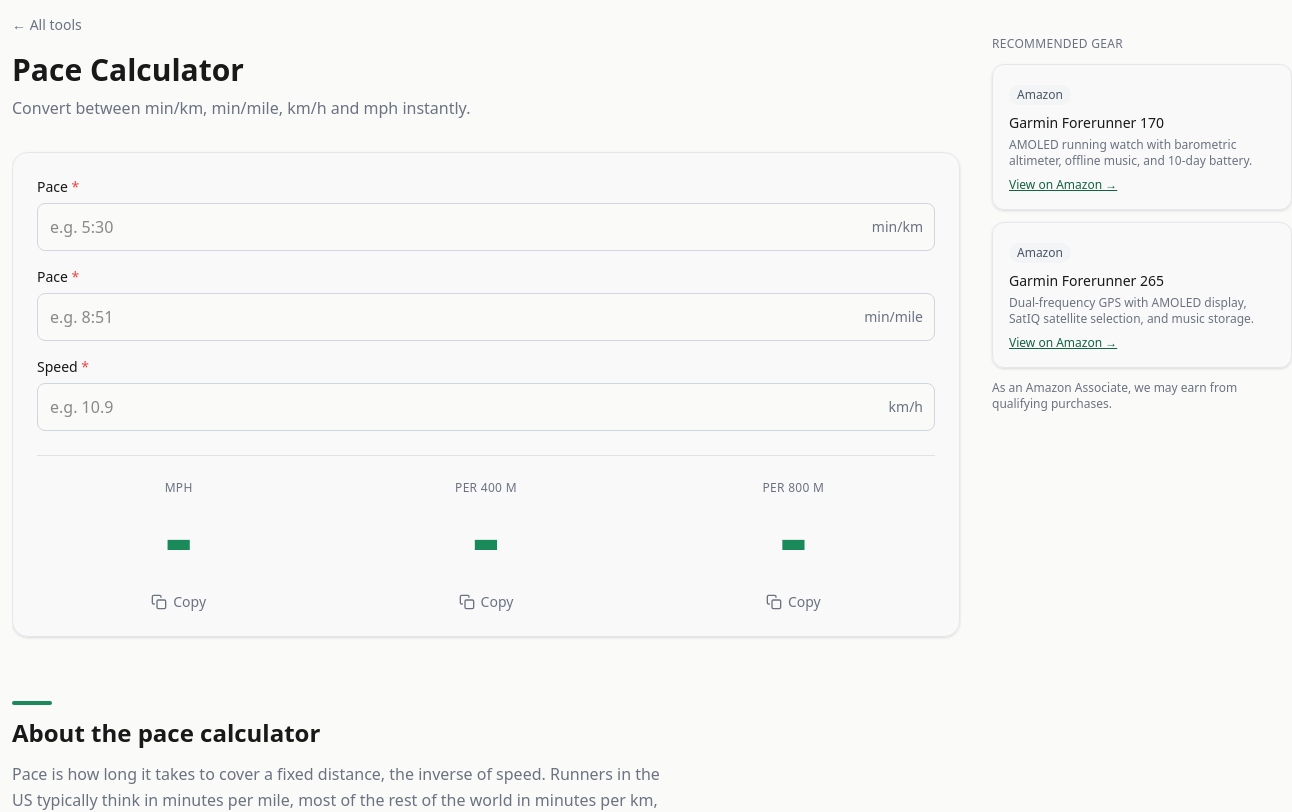
Scenario: Pace Calculator page › km/h → cross-update › typing 10.9 in km/h updates min/km to 5:30
Type "10.9" into the number field labelled "Speed *". click: (486,407)
box: x1=37 y1=383 x2=935 y2=431
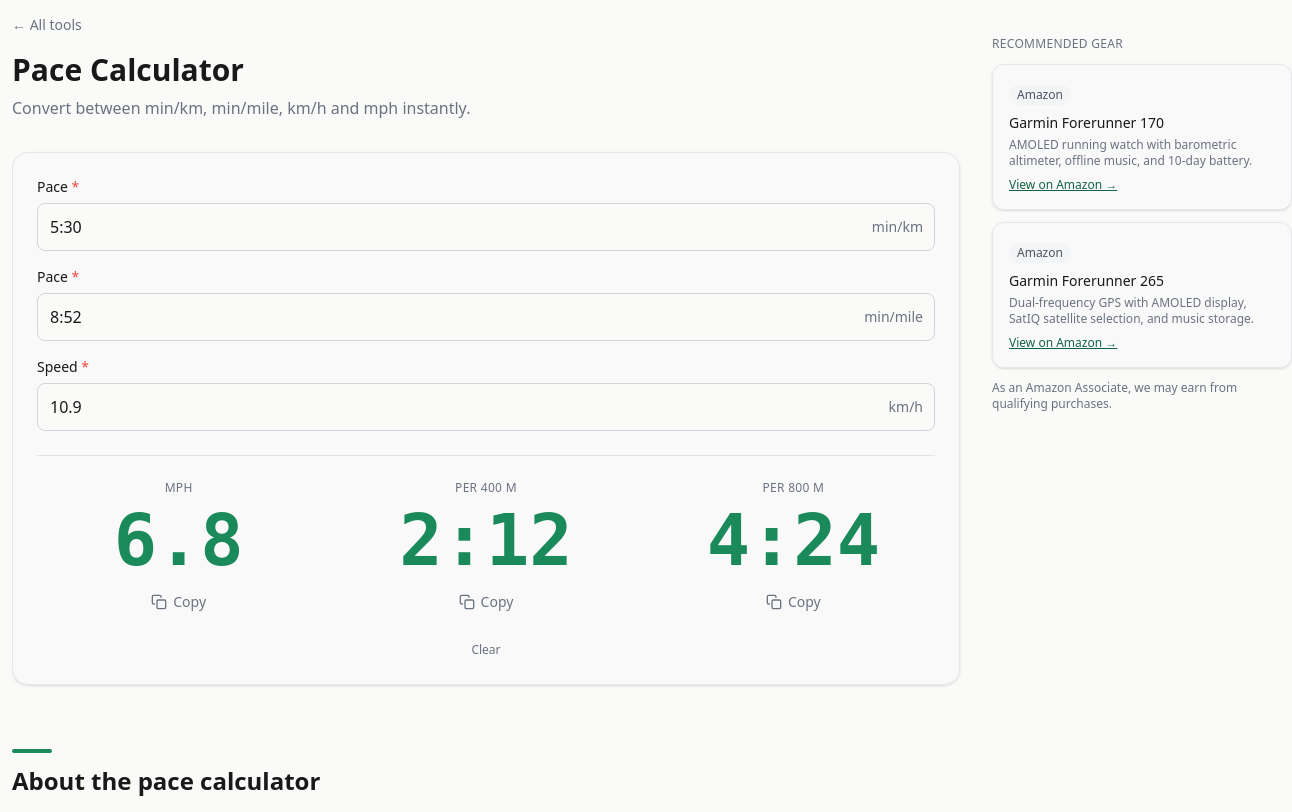
Check: the 1st field labelled "Pace *" holds "5:30", box x1=37 y1=203 x2=935 y2=251
